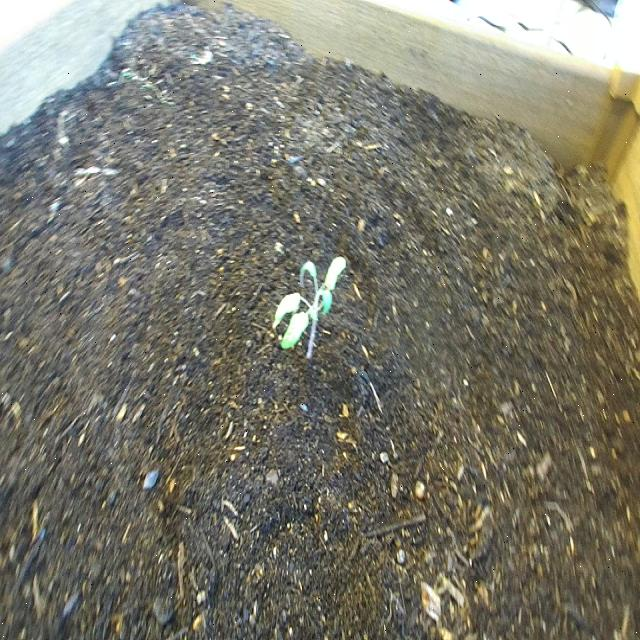Healthy: (269, 252, 350, 368)
